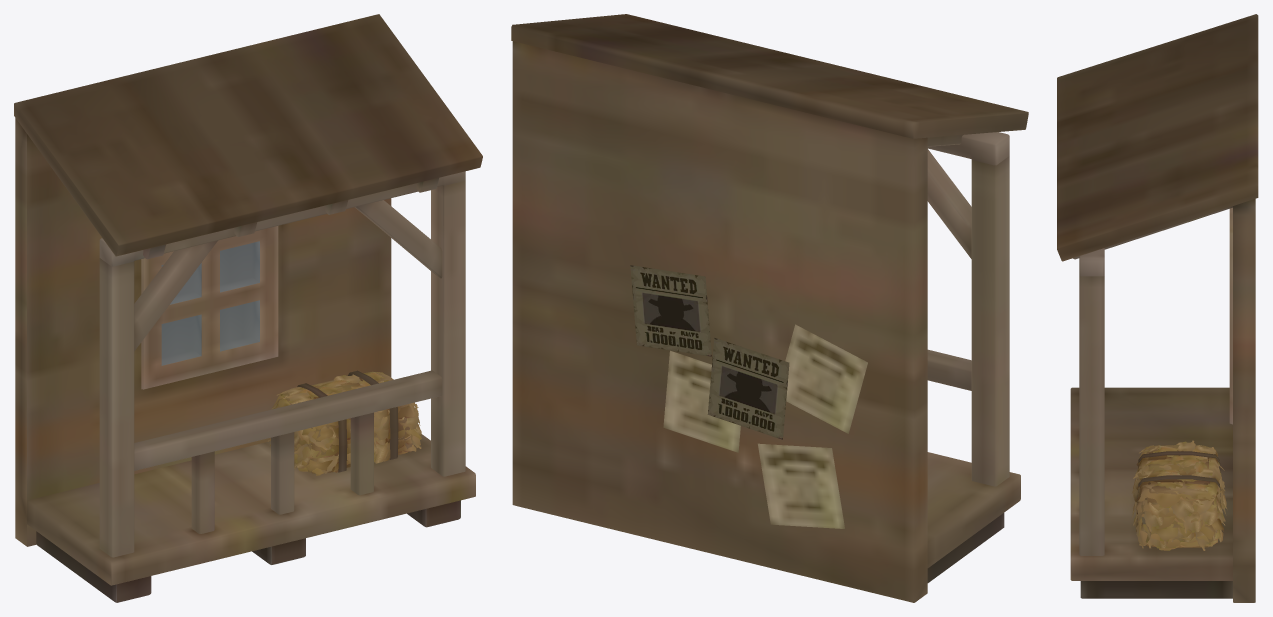
3 renders of one model, left to right at view 1: azimuth 30°, elevation 25°; view 2: azimuth 150°, elevation 25°; view 3: azimuth 270°, elevation 25°, orthographic. The views are drawn at different scales.
Bounding box in the file's own units: 20 × 22.91 × 10.
Materials: 3 (2 with a texture image).
